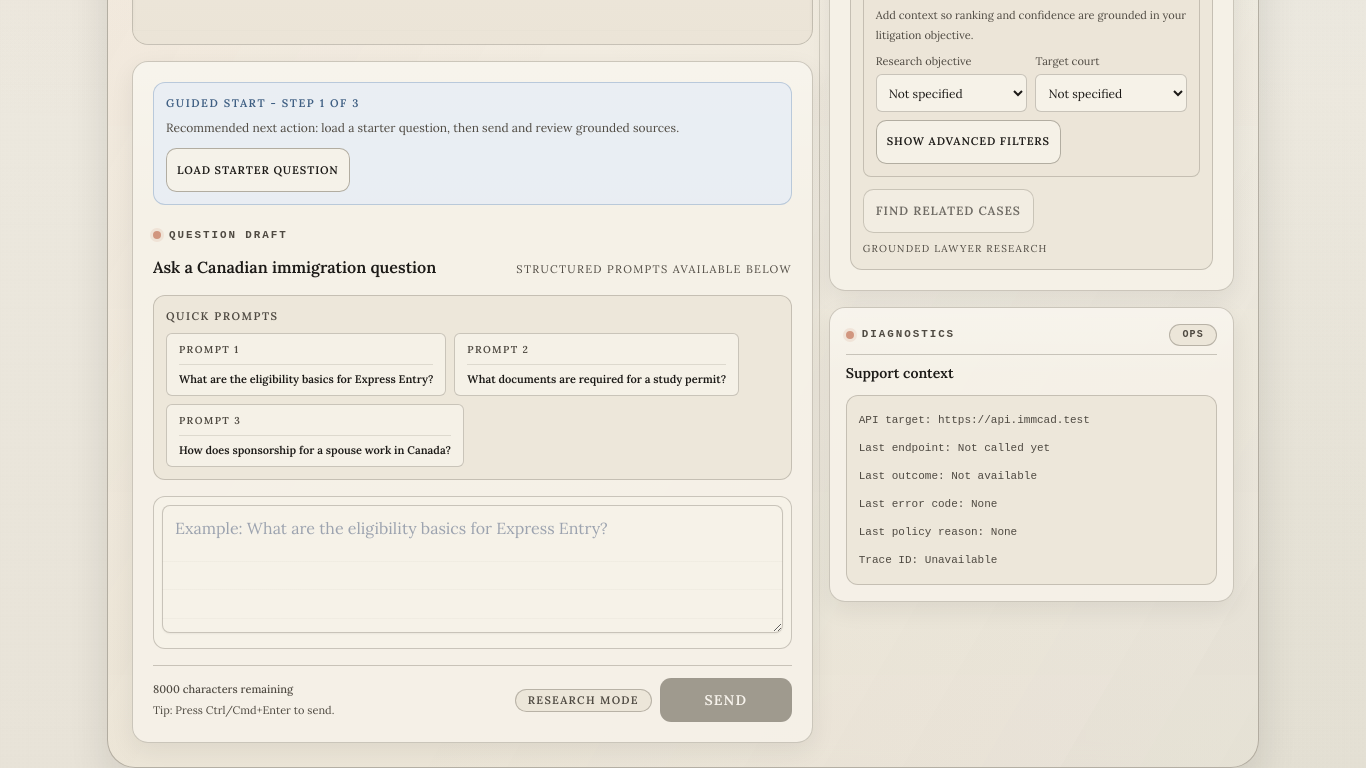
Test: chat shell contract behavior › renders chat response first and runs case search only on explicit action
The image size is (1366, 768).
(page scrolled)
Type "How does Express Entry work?" into the text box labelled "Ask a Canadian immigration question" at {"x": 472, "y": 569}, box top-left (162, 505), bottom-right (783, 633)
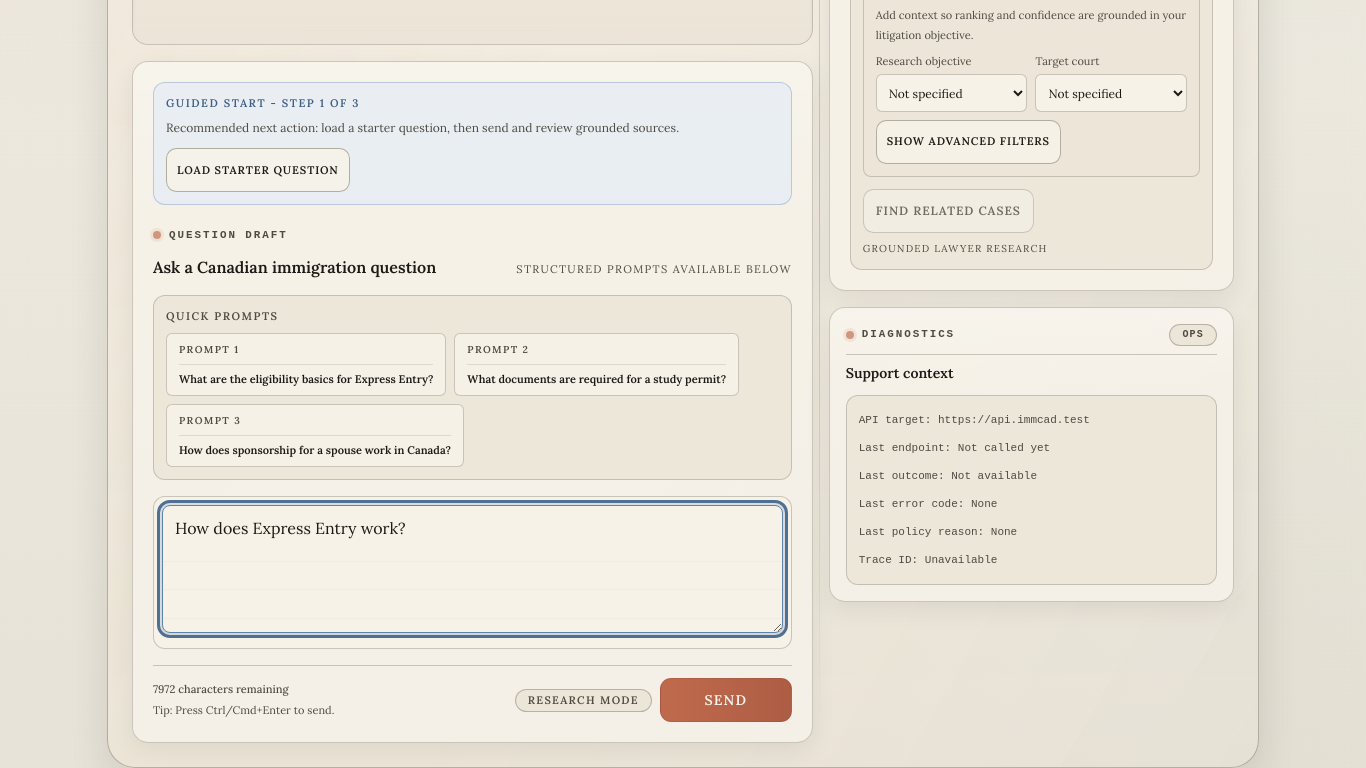
Click the button "Send" at {"x": 726, "y": 700}, box top-left (660, 678), bottom-right (792, 722)
(page scrolled)
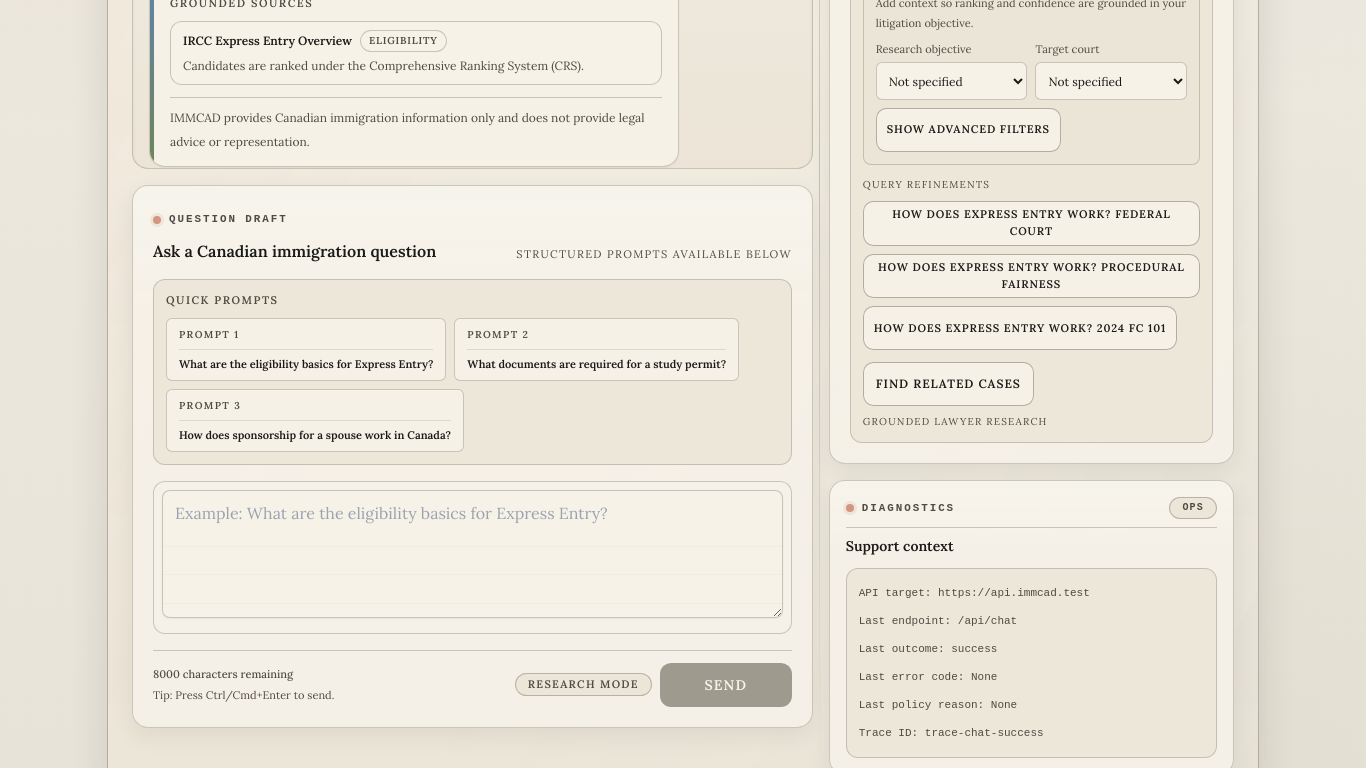
Check: the text "Trace ID: trace-chat-success" is shown, box top-left (859, 727), bottom-right (1044, 739)
Check: the text "Last endpoint: /api/chat" is shown, box top-left (859, 615), bottom-right (1017, 627)
Click the button "Find related cases" at {"x": 948, "y": 384}, box top-left (863, 362), bottom-right (1034, 406)
(page scrolled)
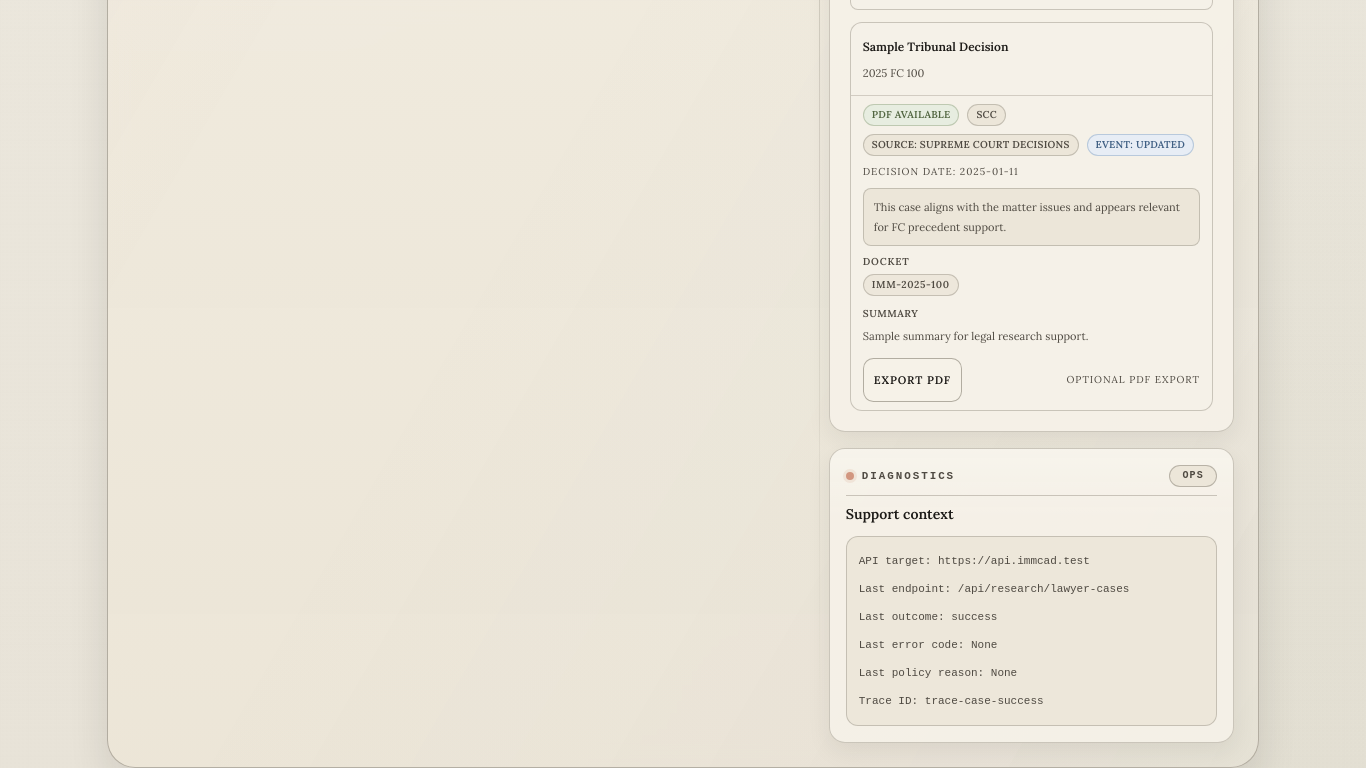
Check: the link "Sample Tribunal Decision" is shown, box top-left (863, 39), bottom-right (1009, 54)
Check: the text "PDF available" is shown, box top-left (863, 104), bottom-right (960, 126)
Check: the text "appears relevant for FC precedent support" is shown, box top-left (874, 200), bottom-right (1180, 234)
